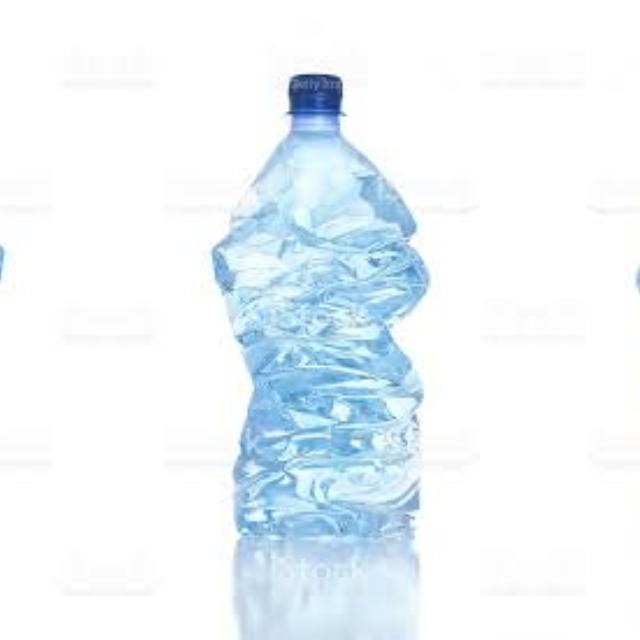Plastic: (178, 61, 458, 573), (0, 61, 35, 573), (608, 61, 640, 573)
